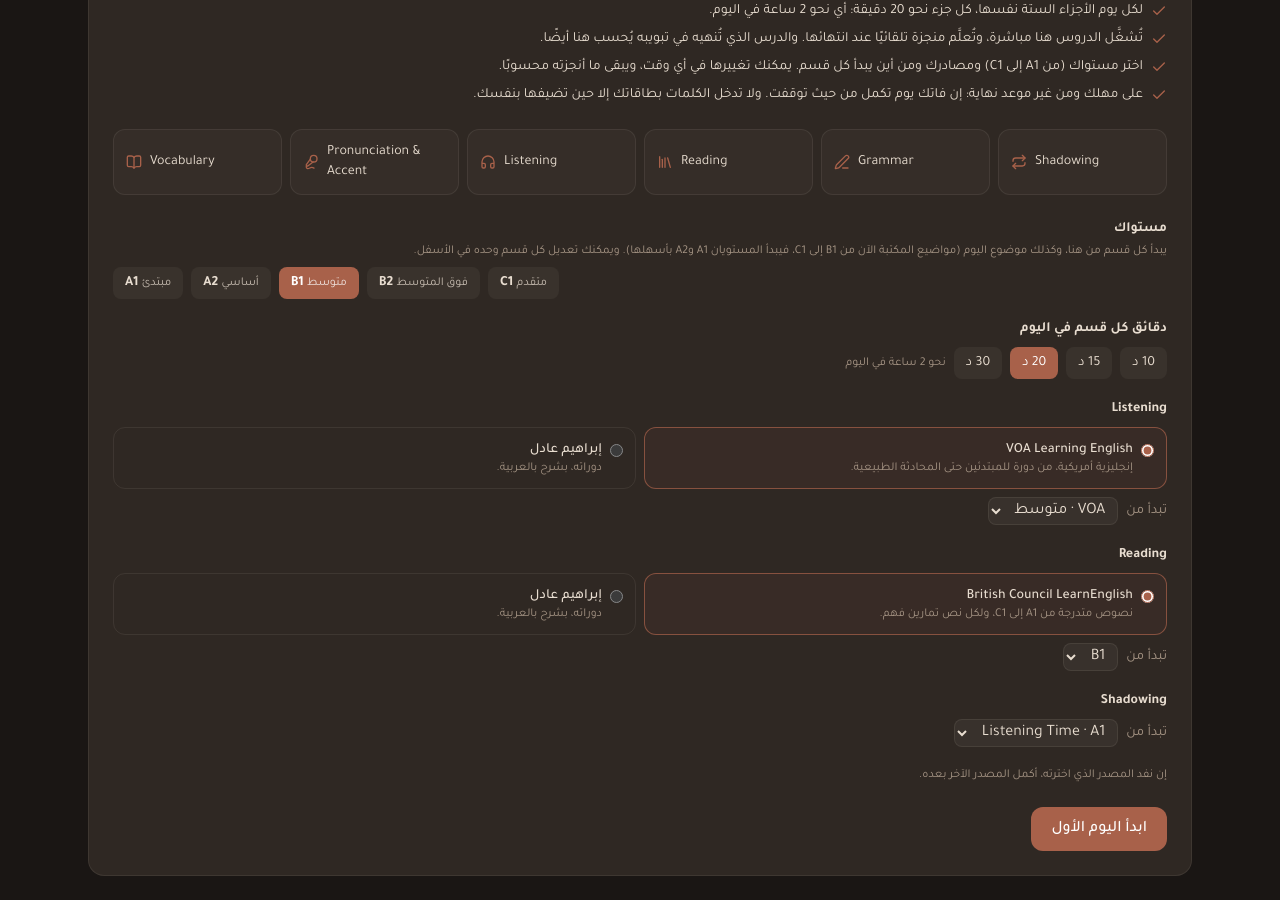
LearningPathSection › shows the six sections and the settings, then day 1 after starting (ar)
(page scrolled)
Expected: the list item "نحو 2 ساعة في اليوم" is shown, [709, 4, 1143, 18]
Click the button "ابدأ اليوم الأول" at point(1099, 829), box [1032, 807, 1167, 851]
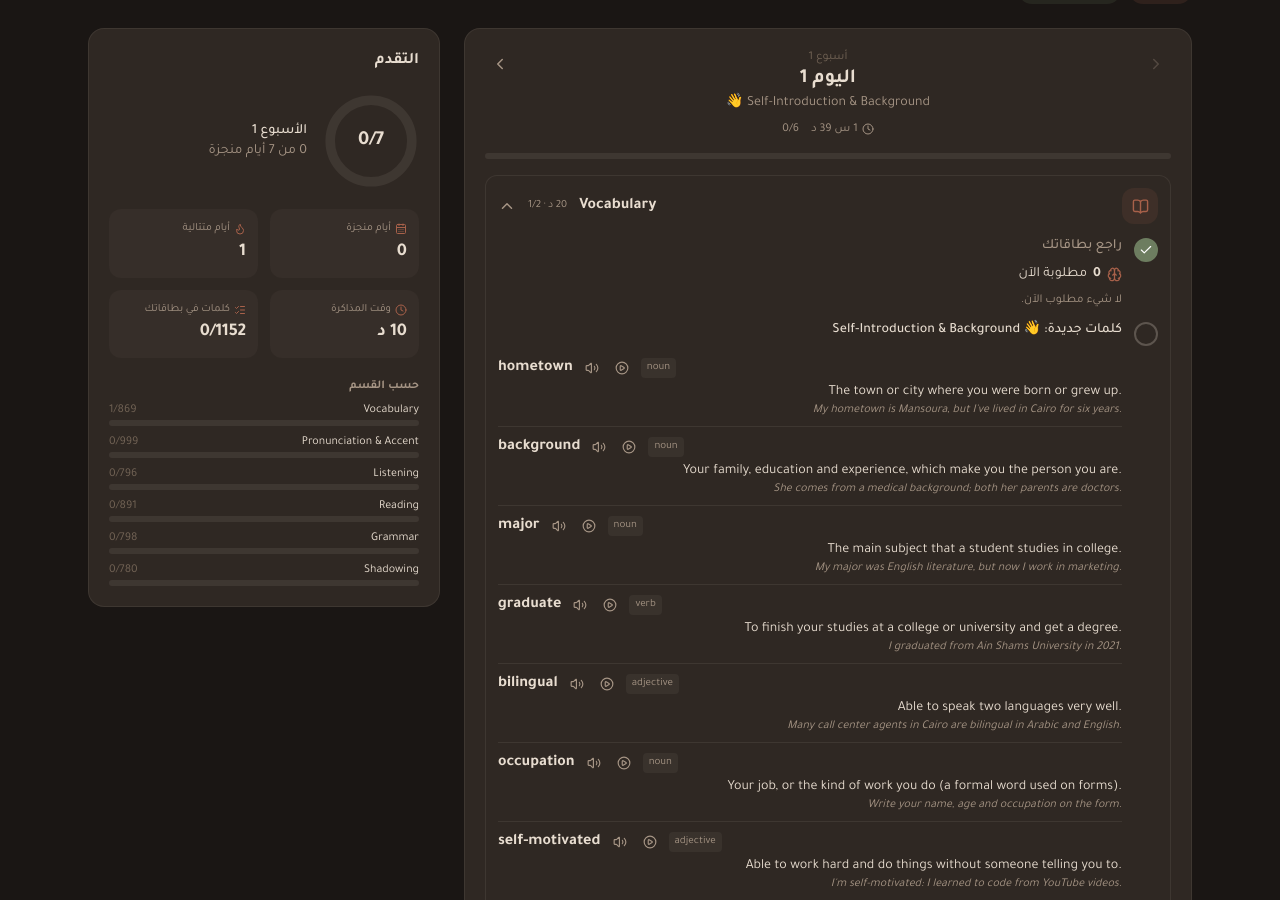
Result: the heading "اليوم 1" is shown at [800, 69, 856, 89]
